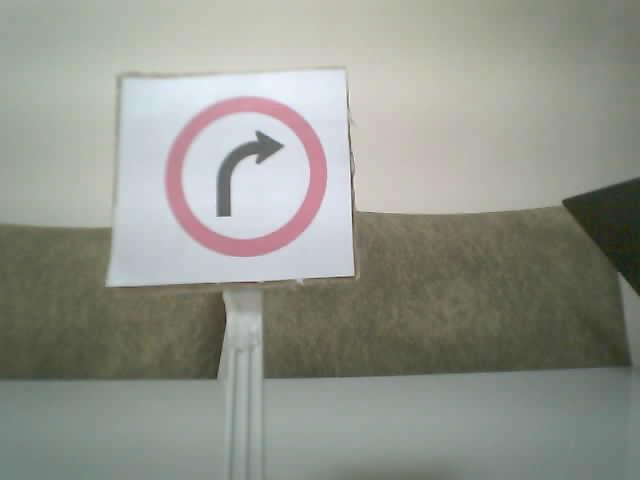R-25b_direita: (163, 94, 327, 256)
